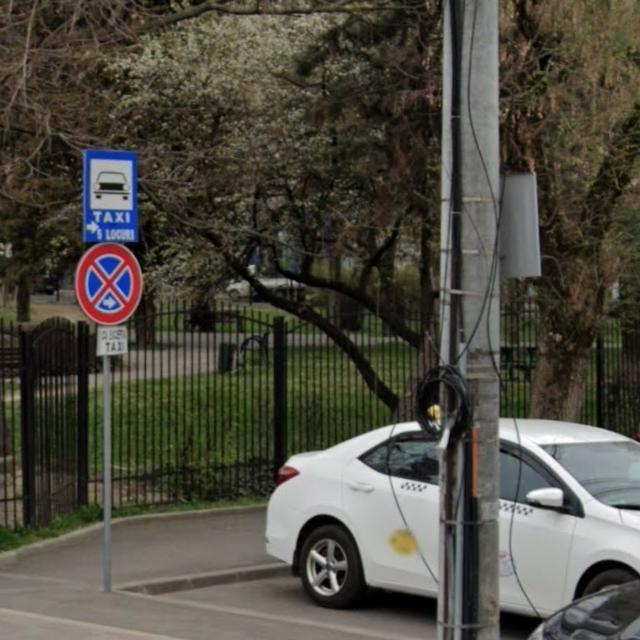forb_waiting: (75, 244, 143, 326)
